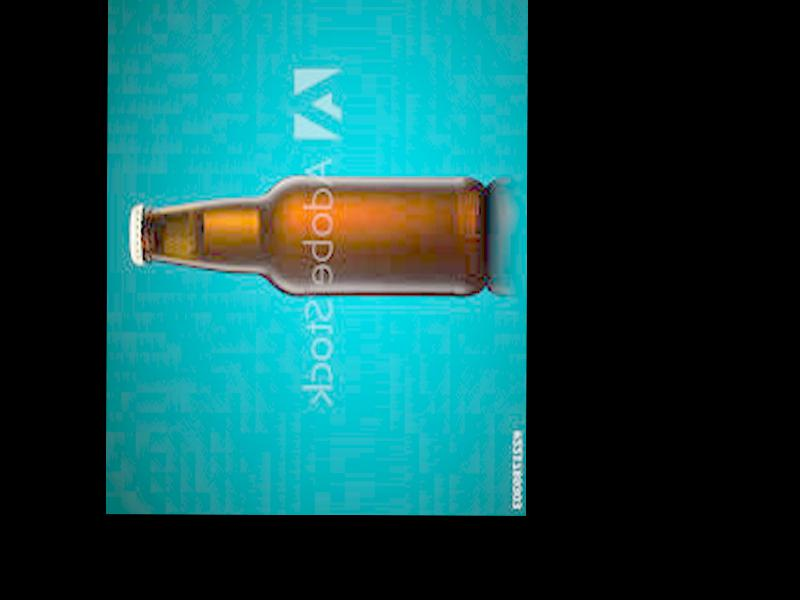Beer: (129, 176, 488, 299)
